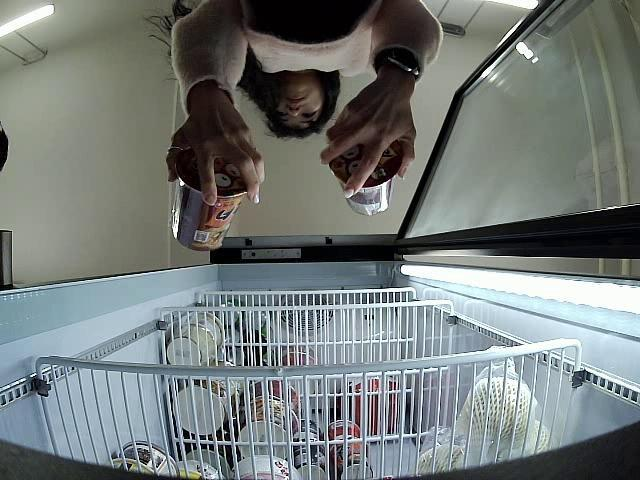06_nuguri_S: (170, 158, 247, 252), (328, 135, 404, 218)
